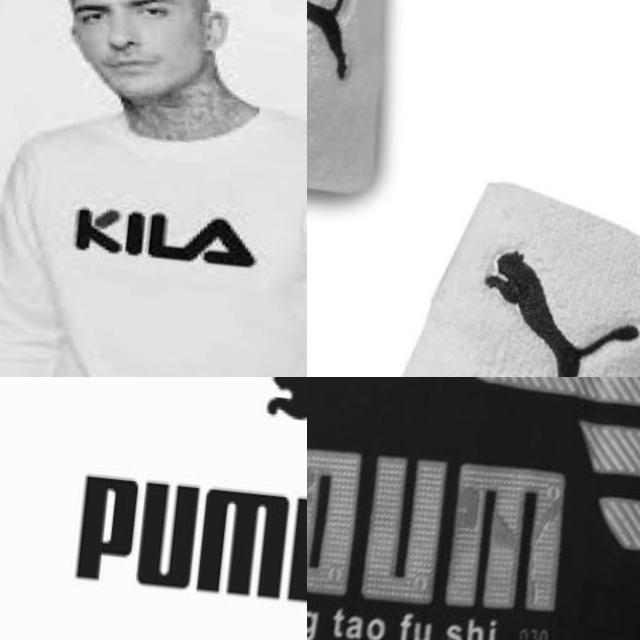FILA_fake: (56, 165, 307, 294)
PUMA_fake: (307, 377, 640, 640), (35, 377, 307, 624)
PUMA_original: (459, 230, 640, 377), (307, 0, 381, 101)
